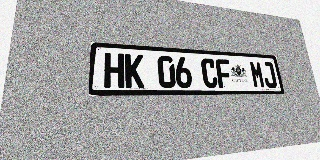0: (157, 56, 176, 88)
6: (174, 57, 193, 88)
C: (200, 58, 218, 88)
F: (215, 59, 233, 88)
H: (104, 53, 124, 88)
J: (261, 61, 278, 88)
K: (125, 54, 144, 88)
M: (249, 61, 266, 88)
